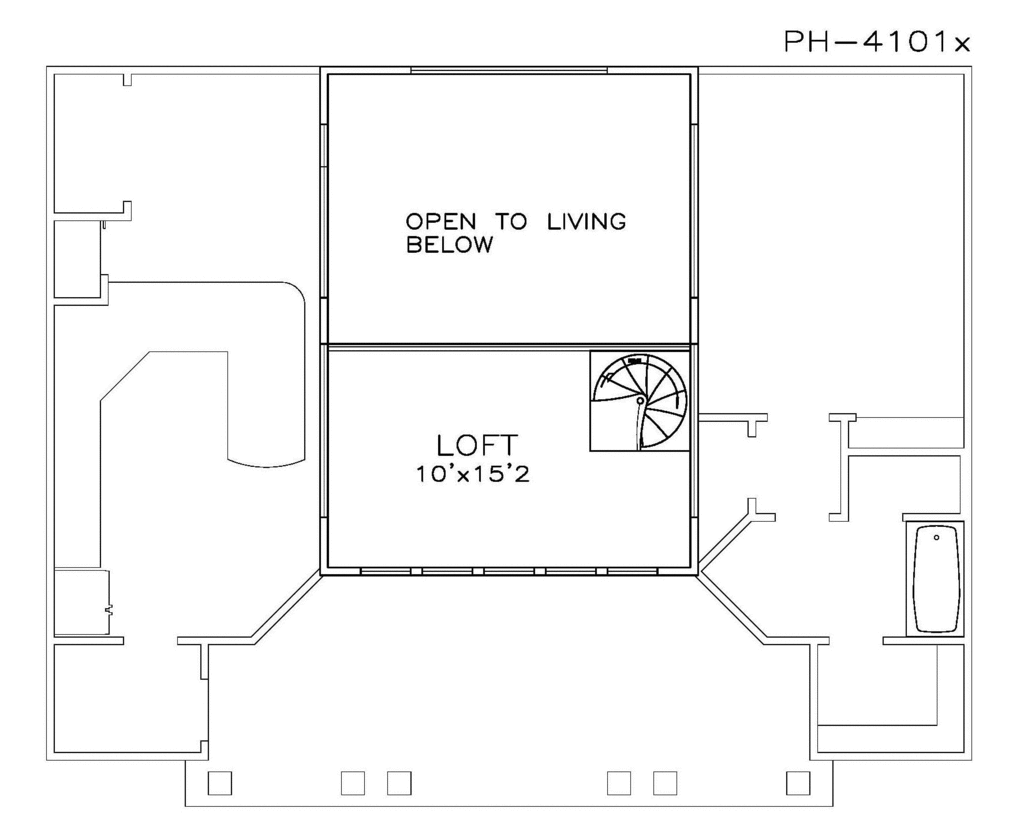stairs: (585, 348, 688, 452)
tub: (906, 518, 962, 639)
windows: (406, 59, 613, 79)
